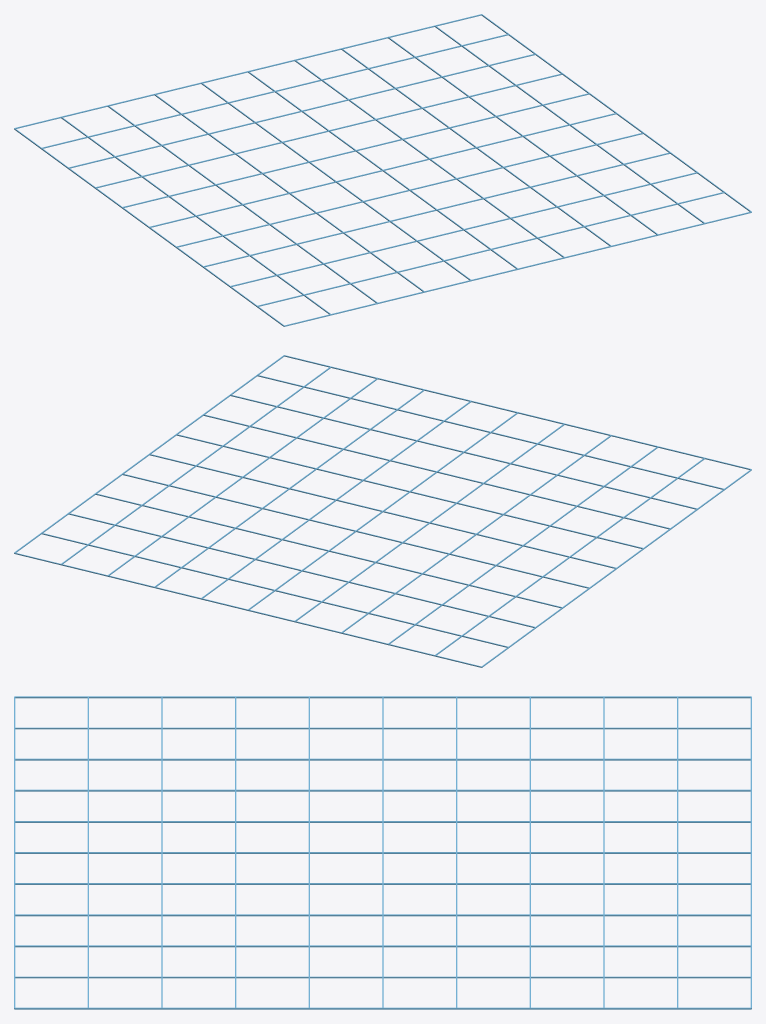
The picture shows the model from 3 angles, top to bottom: view 1: azimuth 30°, elevation 25°; view 2: azimuth 150°, elevation 25°; view 3: azimuth 270°, elevation 25°; orthographic projection. The views are drawn at different scales.
Parts seen in each view (by area): view 1: grid_1m_10x10; view 2: grid_1m_10x10; view 3: grid_1m_10x10.
Boxes of the visible parts, x1,y1,x2,y2 form: grid_1m_10x10: [14, 14, 751, 326]; grid_1m_10x10: [14, 355, 751, 667]; grid_1m_10x10: [14, 696, 751, 1009].
Size of the model in its own units: 10.02 by 0.02 by 10.02.
